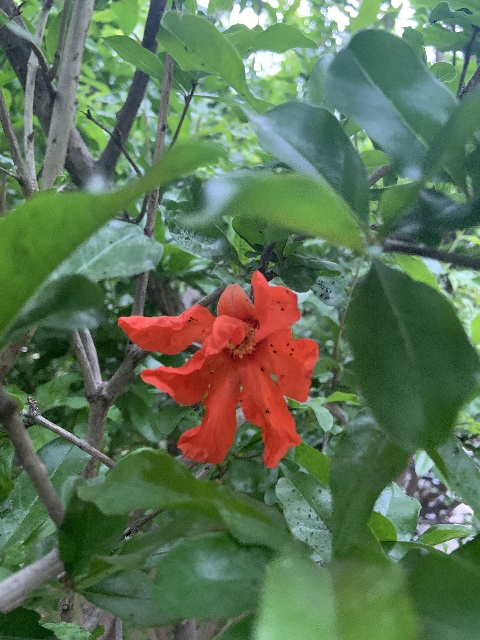flower: (118, 268, 320, 467)
